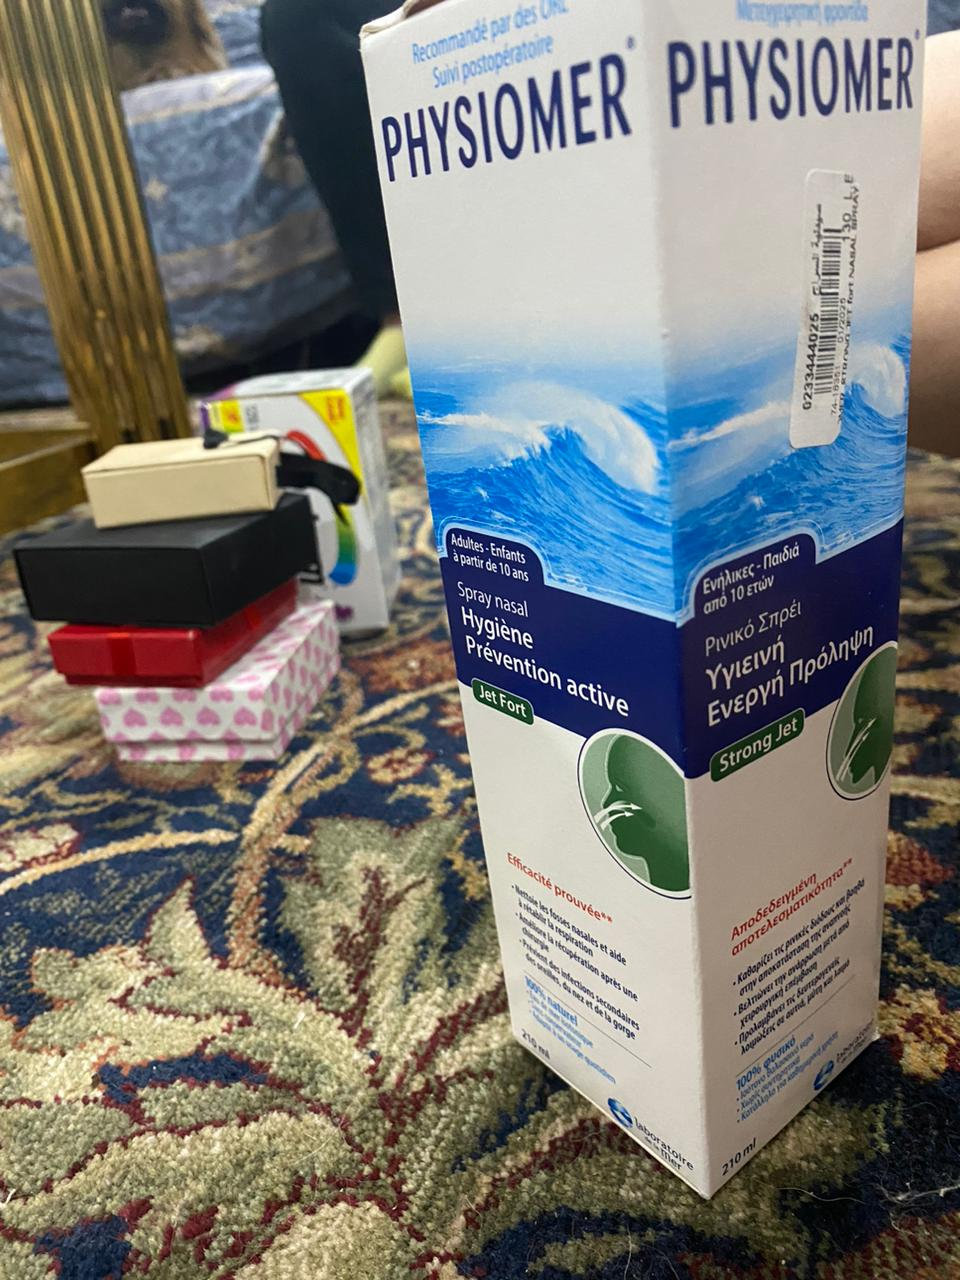Black Box: (20, 485, 304, 626)
Centrum: (280, 360, 408, 635)
Physiomer: (356, 2, 899, 1211)
Pink Box: (80, 605, 341, 765)
Red Box: (46, 570, 298, 686)
Yellow Box: (78, 430, 287, 522)
